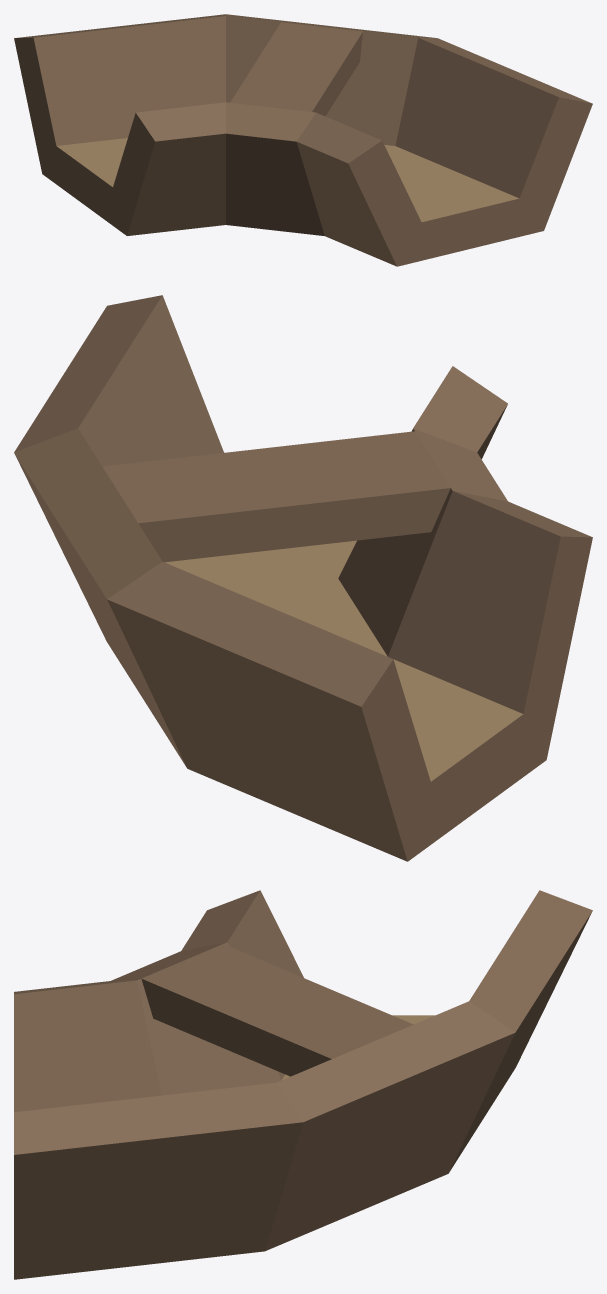
The model's file is Waterwheel_Flume_Curved.obj.
The picture shows the model from 3 angles, top to bottom: view 1: azimuth 30°, elevation 25°; view 2: azimuth 150°, elevation 25°; view 3: azimuth 270°, elevation 25°; orthographic projection. The views are drawn at different scales.
Parts seen in each view (by area): view 1: flume_corner; view 2: flume_corner; view 3: flume_corner.
Part boxes in pixels (x1,y1,x2,y2): flume_corner: (14, 14, 592, 266); flume_corner: (14, 295, 592, 861); flume_corner: (14, 890, 592, 1279).
Size of the model in its own units: 0.75 by 0.2538 by 0.75.
